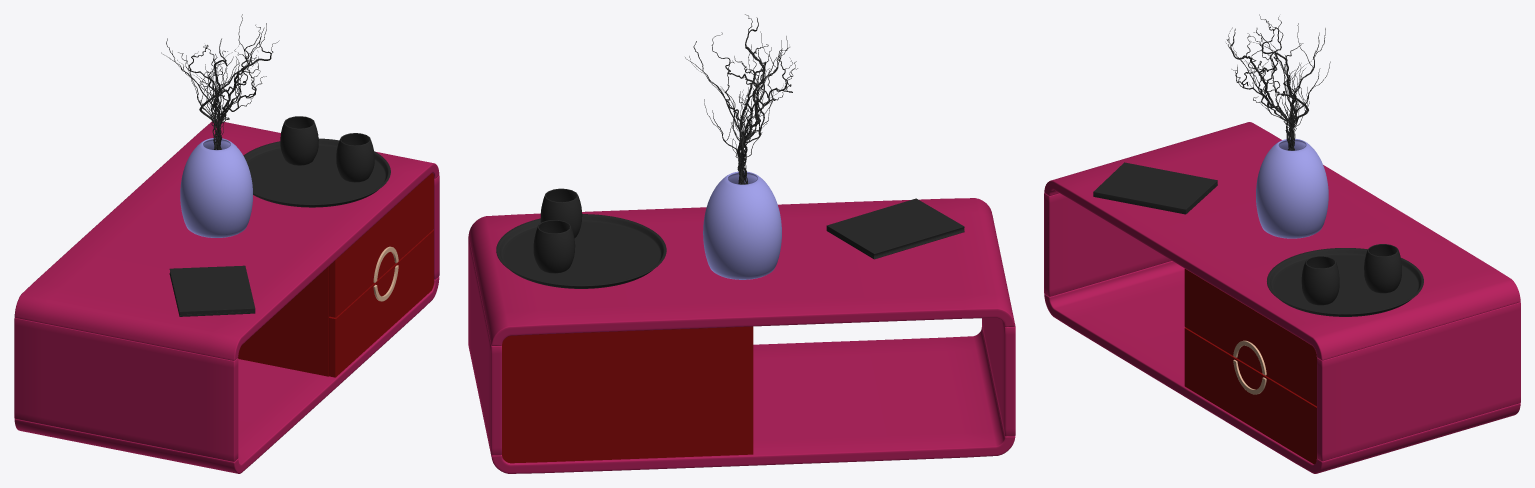
Rendered from Center Table.obj.
The picture shows the model from 3 angles, left to right: view 1: azimuth 30°, elevation 25°; view 2: azimuth 150°, elevation 25°; view 3: azimuth 270°, elevation 25°; orthographic projection. The views are drawn at different scales.
Parts seen in each view (by area): view 1: Object001, Plane001, Plane003, AI30_005_gadget_003_06, Sphere001, Plane004, AI30_005_books_001_03, AI30_005_gadget_004_02, AI30_005_gadget_003_01, AI30_005_gadget_003_07; view 2: Object001, Plane004, AI30_005_gadget_003_06, Sphere001, Plane001, AI30_005_books_001_03, AI30_005_gadget_004_02, AI30_005_gadget_003_07, AI30_005_gadget_003_01; view 3: Object001, Plane001, Plane003, Sphere001, AI30_005_gadget_003_06, AI30_005_books_001_03, AI30_005_gadget_004_02, AI30_005_gadget_003_01, AI30_005_gadget_003_07.
Boxes of the visible parts, x1,y1,x2,y2 form: Object001: (14,121,439,473); Plane001: (14,175,439,461); Plane003: (329,173,433,377); AI30_005_gadget_003_06: (243,138,390,207); Sphere001: (180,138,252,237); Plane004: (238,266,329,376); AI30_005_books_001_03: (169,265,255,316); AI30_005_gadget_004_02: (161,14,279,149); AI30_005_gadget_003_01: (336,133,374,182); AI30_005_gadget_003_07: (280,116,318,165); Object001: (468,198,1015,473); Plane004: (502,326,753,463); AI30_005_gadget_003_06: (496,214,666,288); Sphere001: (703,171,781,279); Plane001: (468,236,1015,455); AI30_005_books_001_03: (826,198,964,259); AI30_005_gadget_004_02: (685,14,797,184); AI30_005_gadget_003_07: (533,220,575,273); AI30_005_gadget_003_01: (540,188,582,237); Object001: (1044,122,1520,473); Plane001: (1044,193,1520,461); Plane003: (1184,269,1316,464); Sphere001: (1256,138,1328,238); AI30_005_gadget_003_06: (1267,248,1423,316); AI30_005_books_001_03: (1093,162,1217,214); AI30_005_gadget_004_02: (1226,14,1330,150); AI30_005_gadget_003_01: (1301,256,1339,305); AI30_005_gadget_003_07: (1364,244,1401,293).
Bounding box in the file's own units: 1.35 × 0.9767 × 1.2.
